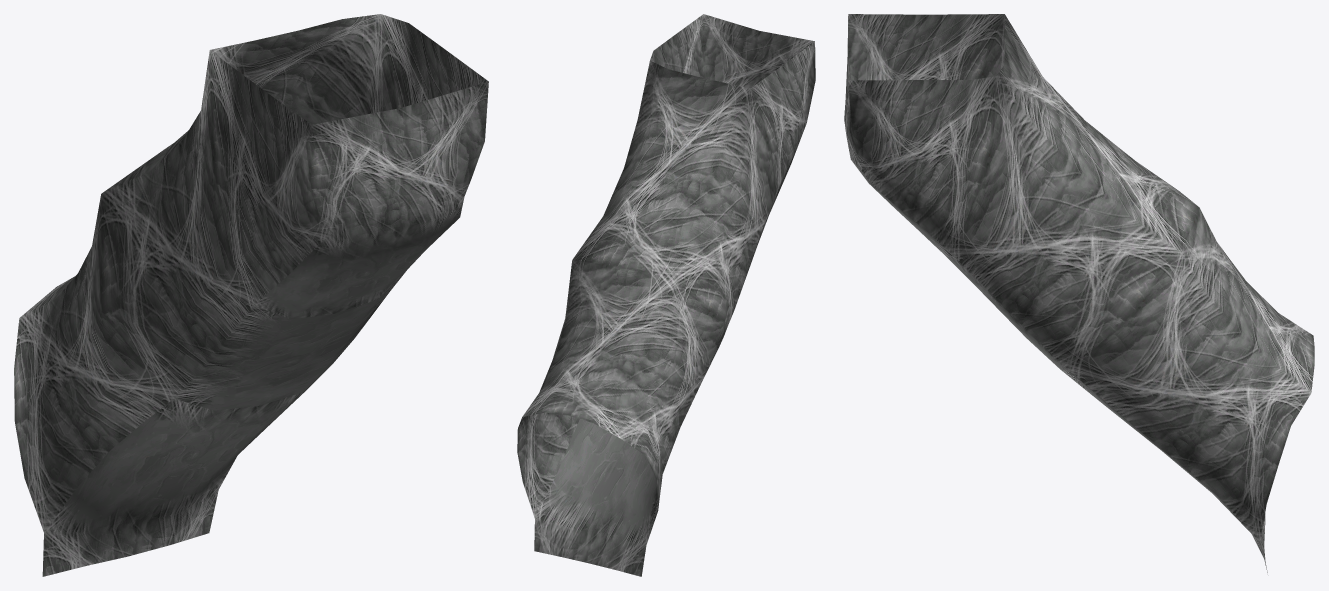
File: SWORDLIGHT20_PS-AREA01_09.fbx
3 renders of one model, left to right at view 1: azimuth 30°, elevation 25°; view 2: azimuth 150°, elevation 25°; view 3: azimuth 270°, elevation 25°, orthographic. The views are drawn at different scales.
Parts seen in each view (by area): view 1: SWORDLIGHT20_PS-AREA01_09; view 2: SWORDLIGHT20_PS-AREA01_09; view 3: SWORDLIGHT20_PS-AREA01_09.
Boxes of the visible parts, <box> form: SWORDLIGHT20_PS-AREA01_09: <box>14,14,488,576</box>; SWORDLIGHT20_PS-AREA01_09: <box>517,14,815,576</box>; SWORDLIGHT20_PS-AREA01_09: <box>844,14,1314,572</box>.
Size of the model in its own units: 76197 by 211304 by 180259.
3 materials, 3 textured.
